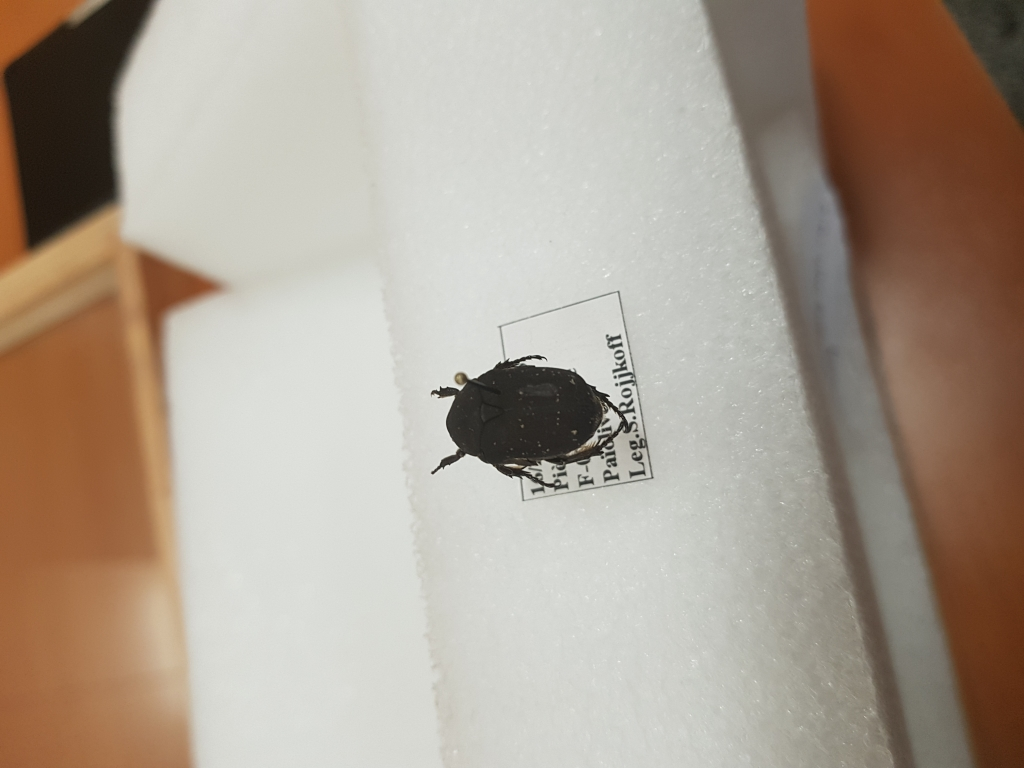Protaetia_morio_morio: (427, 344, 639, 492)
